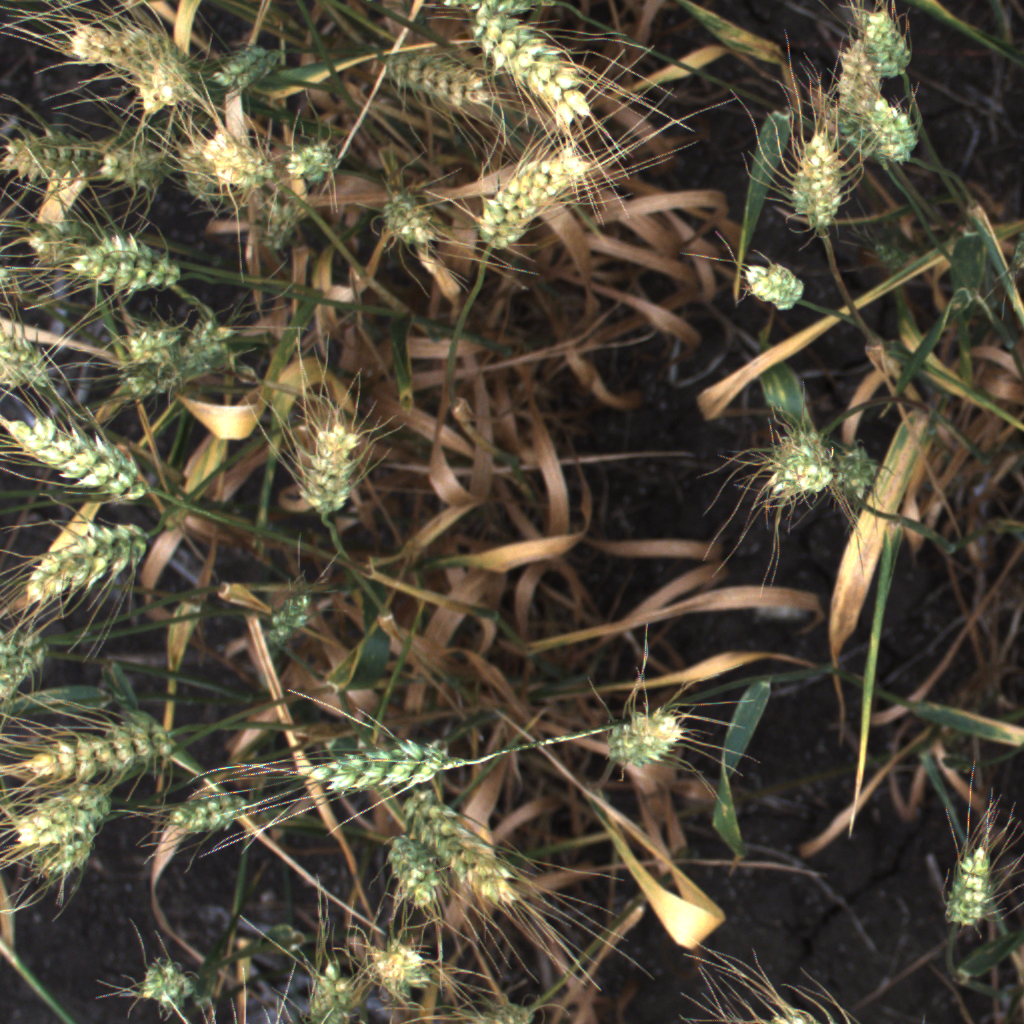wheat_head: (451, 0, 604, 123), (3, 404, 160, 514), (397, 785, 524, 914), (466, 141, 605, 250), (4, 706, 183, 787), (291, 725, 476, 799), (110, 313, 240, 410), (370, 33, 507, 119), (590, 694, 713, 781), (54, 222, 194, 296), (287, 411, 377, 523), (771, 122, 854, 242), (56, 9, 197, 77), (933, 832, 1012, 951), (43, 518, 147, 601), (724, 242, 823, 325), (346, 922, 443, 1005), (365, 824, 447, 917), (158, 774, 261, 848), (190, 124, 287, 198), (240, 579, 331, 655), (848, 0, 929, 83), (85, 136, 181, 205), (370, 178, 456, 254), (826, 29, 892, 128), (121, 945, 208, 1017), (290, 951, 375, 1023), (125, 47, 211, 118), (51, 785, 112, 883), (0, 120, 98, 179), (850, 94, 926, 169), (761, 426, 833, 496), (0, 616, 51, 704), (274, 135, 354, 189), (0, 329, 58, 401), (210, 40, 279, 88), (8, 795, 74, 843), (815, 448, 880, 494), (262, 202, 296, 248)
